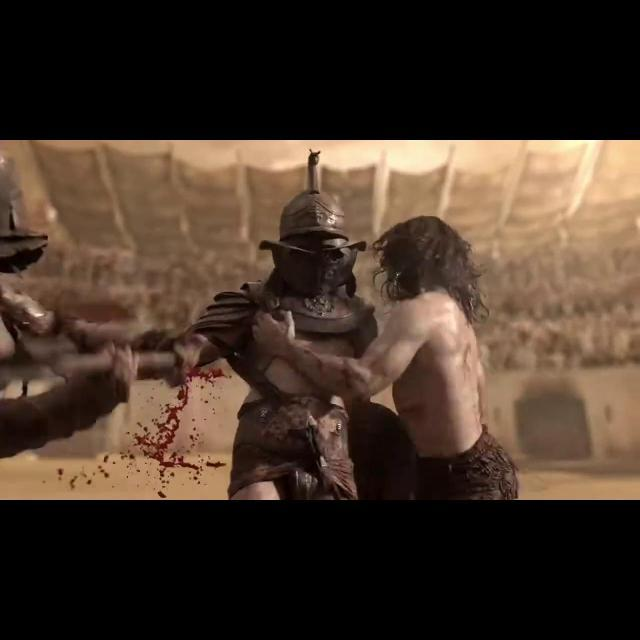blood: (56, 368, 228, 499)
